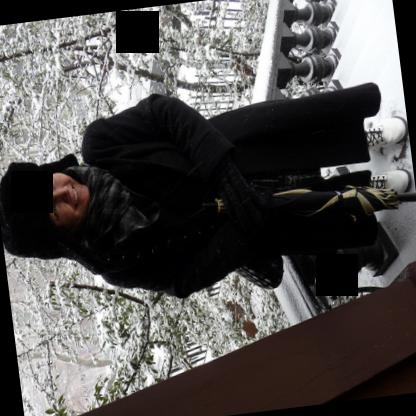handbag: (232, 255, 284, 290)
